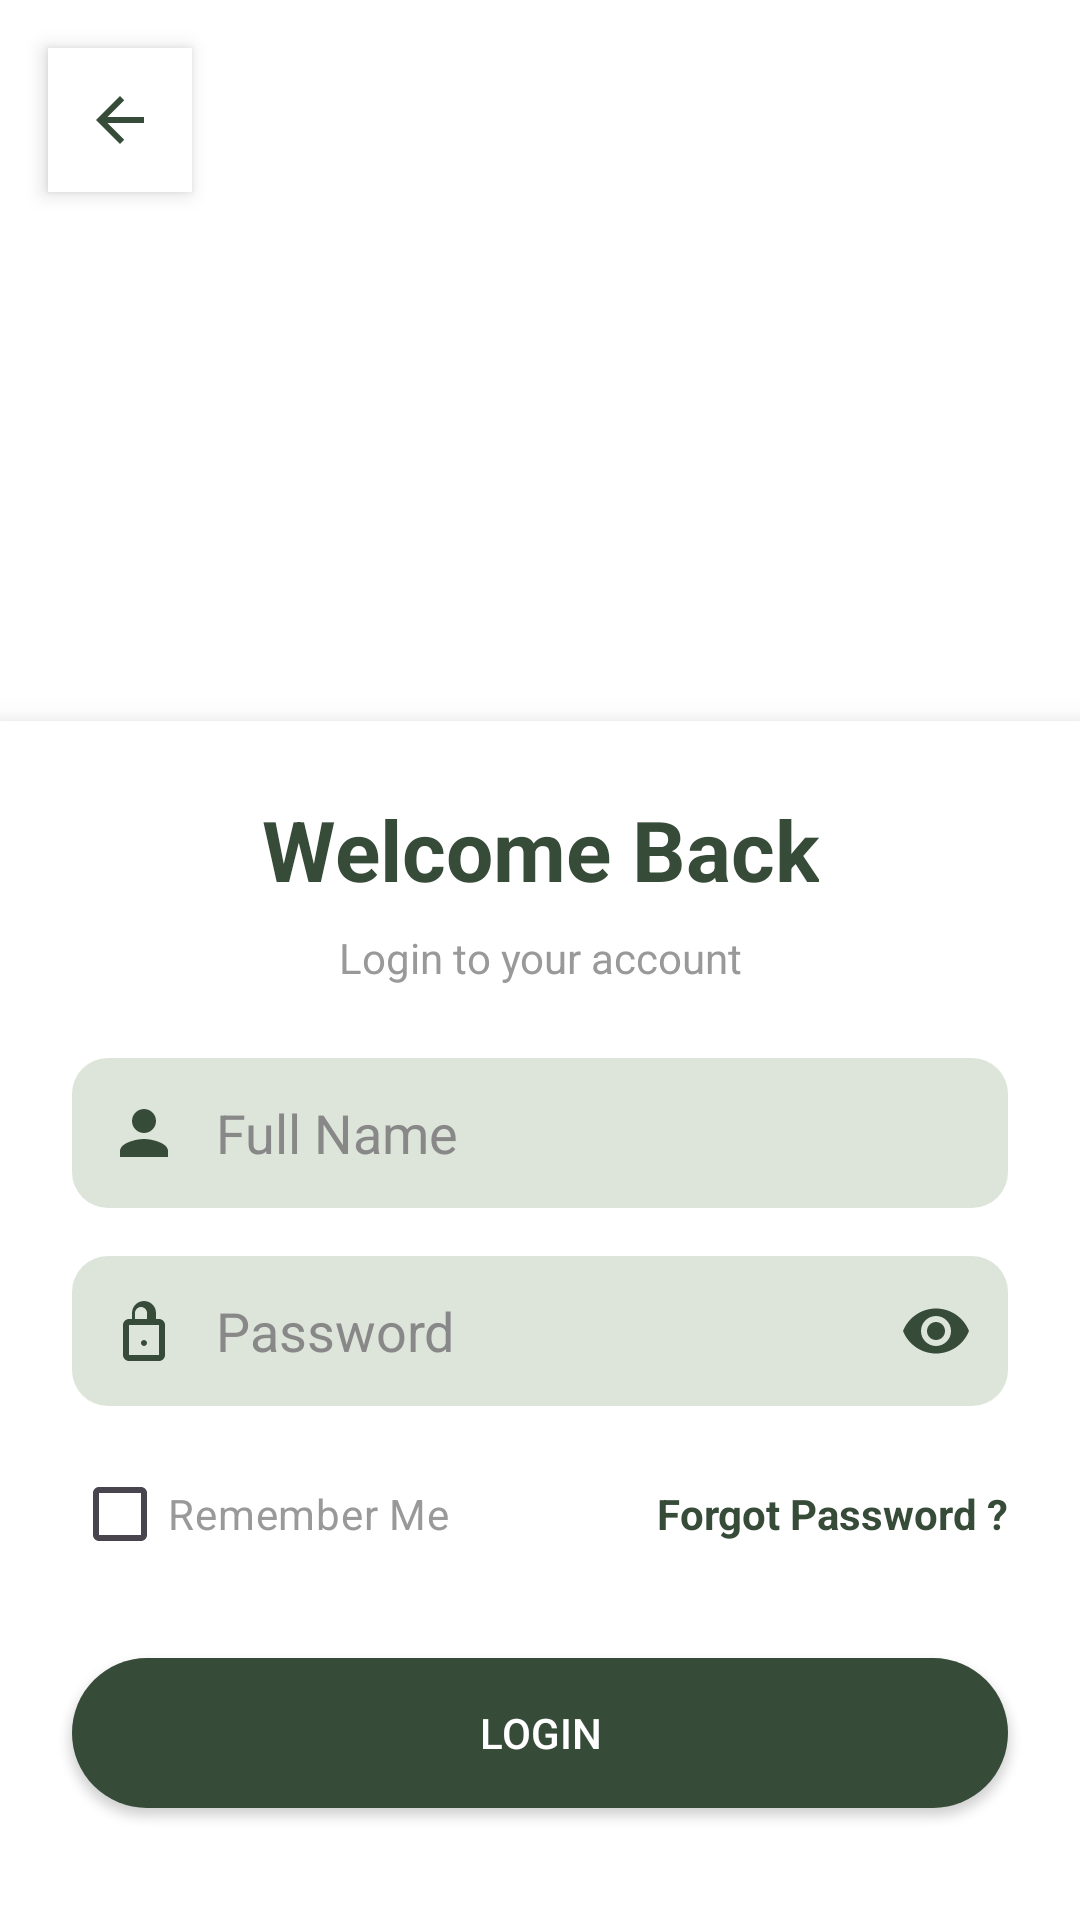

Icon click points for this 1080px×1920px phone screenshot, format (x=x, y=y):
eye: (x=936, y=1331)
lock: (x=144, y=1331)
user: (x=144, y=1133)
